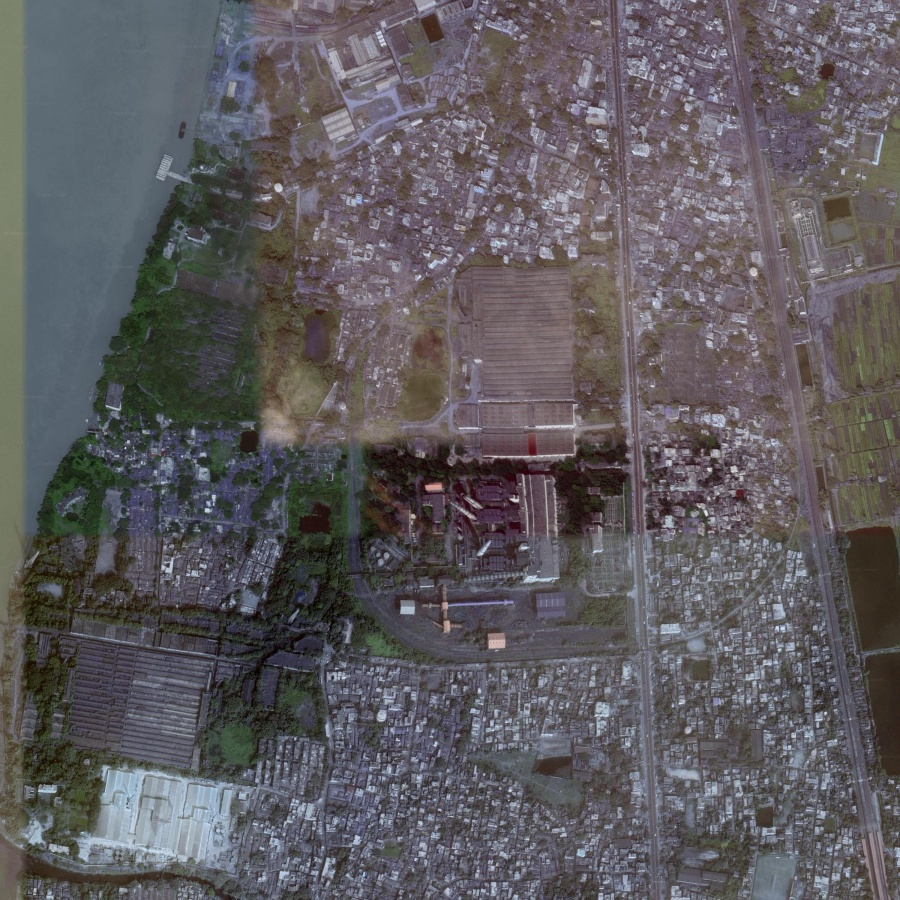PowerPlant: (354, 409, 599, 648)
